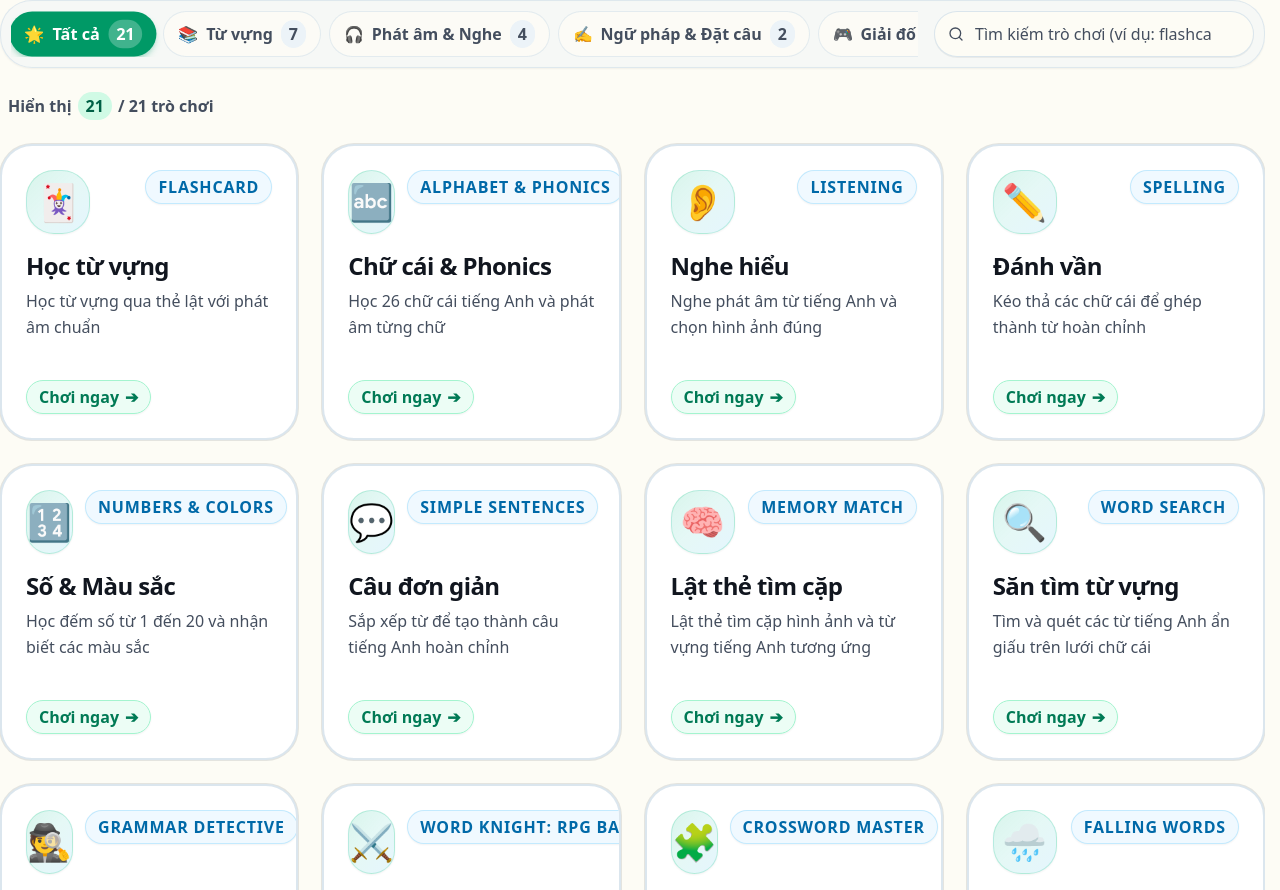
Test: GameCatalogSection › shows friendly empty state when search finds nothing and allows resetting
The width and height of the screenshot is (1280, 890).
In the field with placeholder "Tìm kiếm trò chơi (ví dụ: flashcard, nghe hiểu...)...": (1094, 34) [934,11,1254,57], type "xyznonexistent"
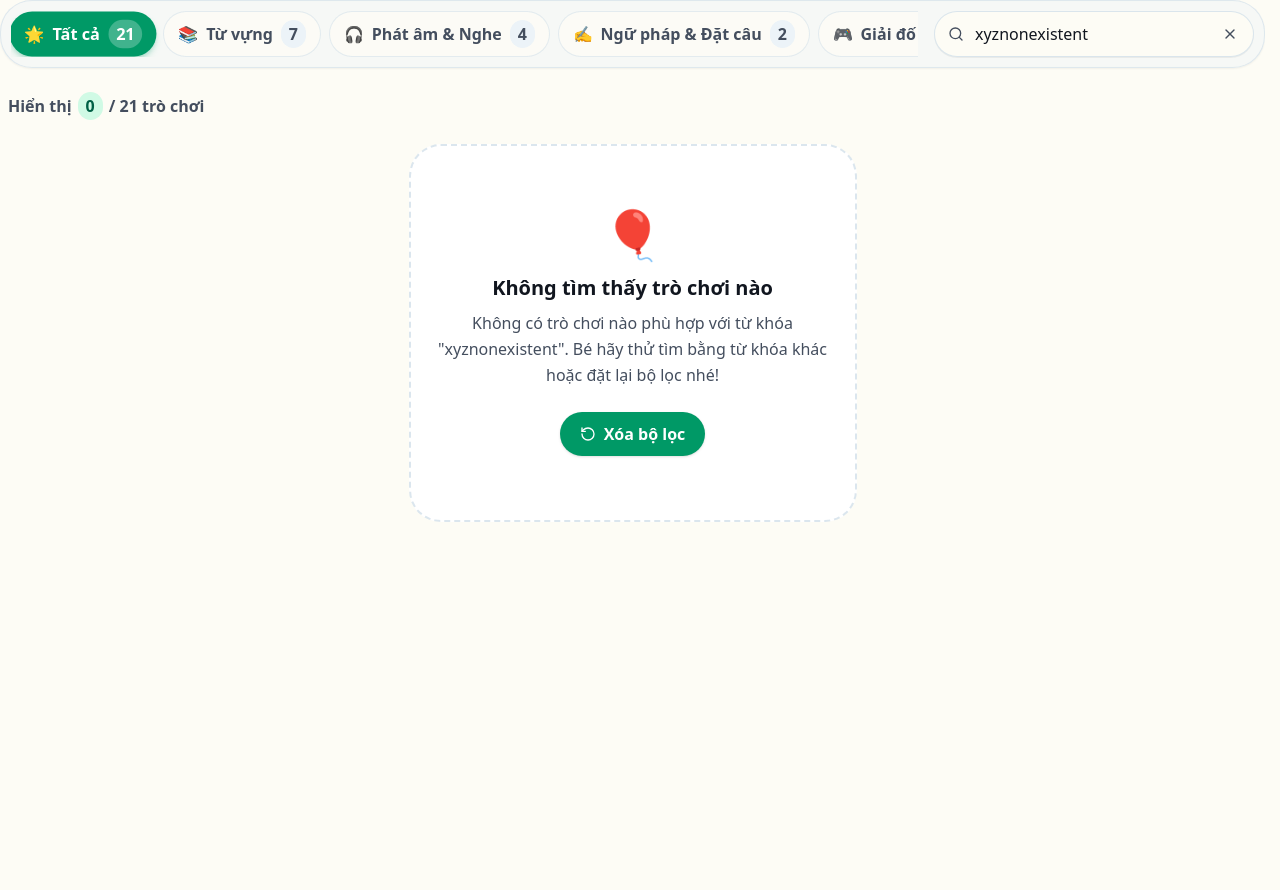
Expected: the heading "Không tìm thấy trò chơi nào" is shown, [492,274,773,301]
Click the button "Xóa bộ lọc": (632, 434) [560,412,705,456]
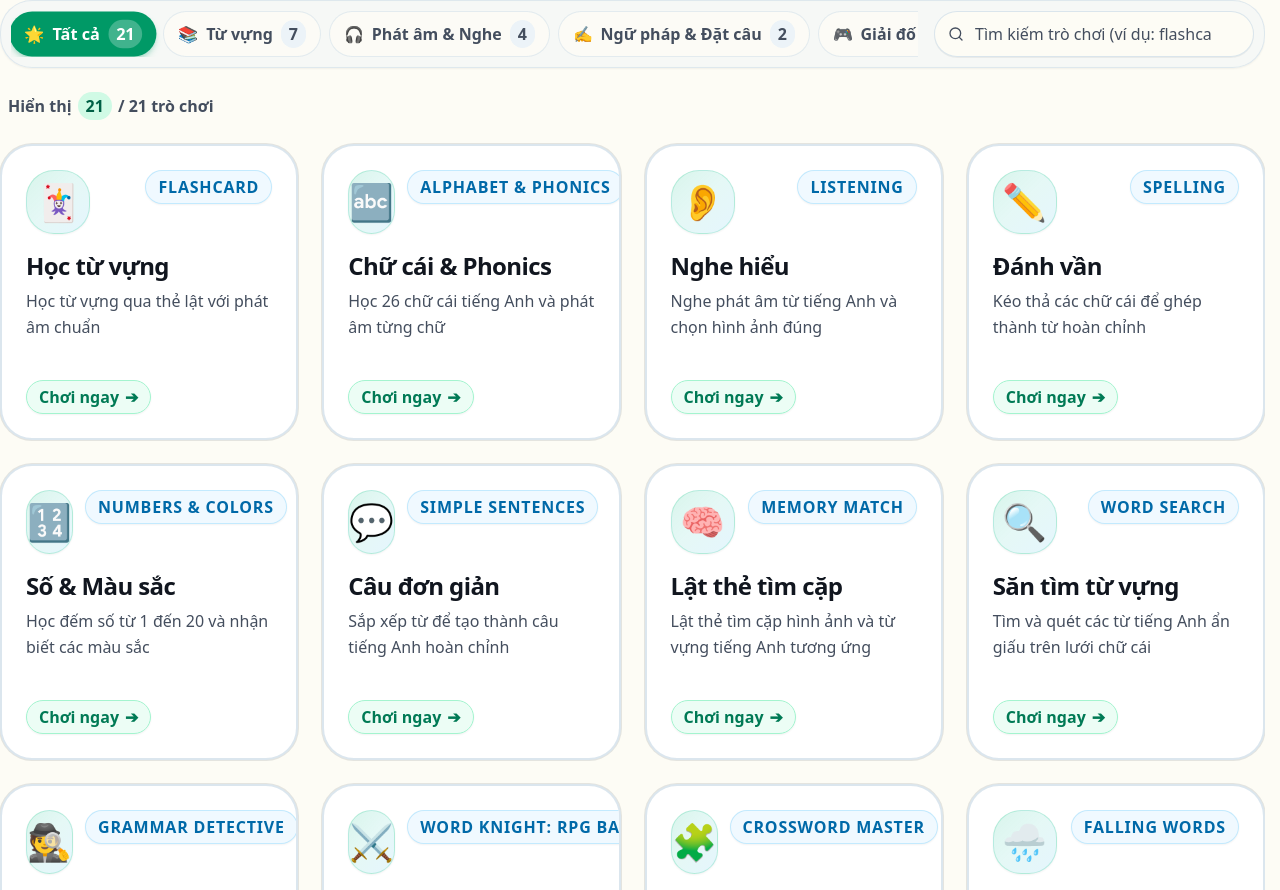
Expected: the number of links is 21
